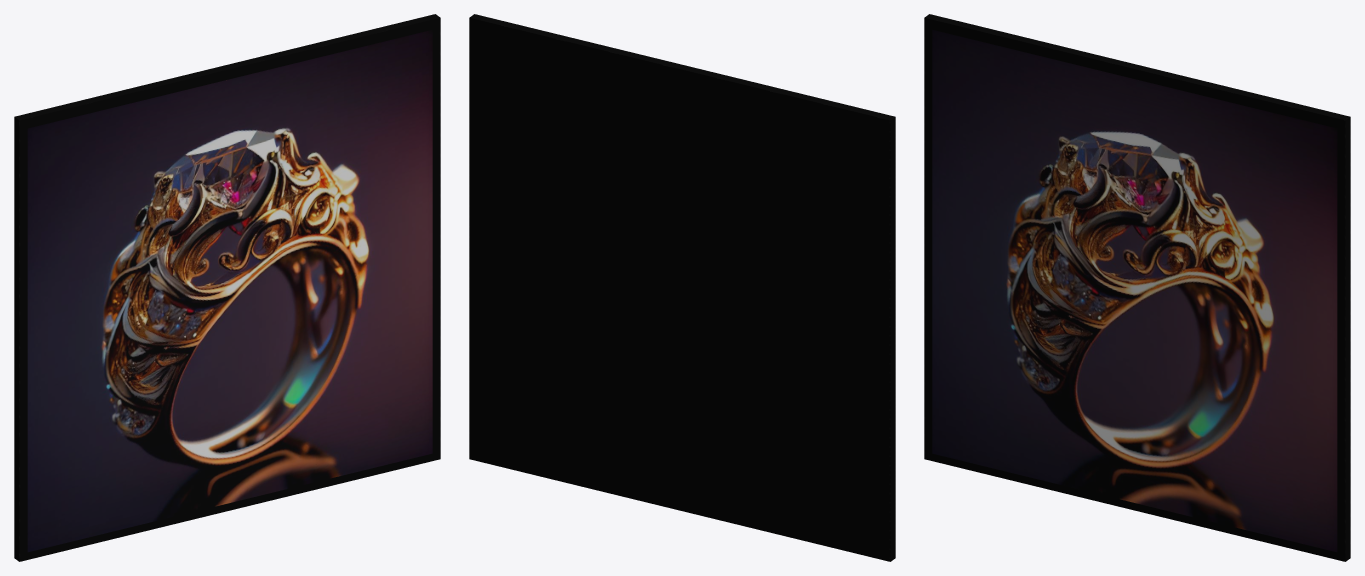
Rendered from Ring4.glb.
The picture shows the model from 3 angles, left to right: view 1: azimuth 30°, elevation 25°; view 2: azimuth 150°, elevation 25°; view 3: azimuth 330°, elevation 25°; orthographic projection.
Parts seen in each view (by area): view 1: mesh_id1, node_id27; view 2: node_id27; view 3: mesh_id1, node_id27.
Part boxes in pixels (x1,y1,x2,y2): mesh_id1: (27, 30, 432, 552); node_id27: (14, 14, 440, 561); node_id27: (469, 14, 895, 561); mesh_id1: (932, 30, 1337, 552); node_id27: (924, 14, 1350, 561).
Bounding box in the file's own units: 0.9899 × 0.9918 × 0.021.
Materials: 2 (2 with a texture image).
